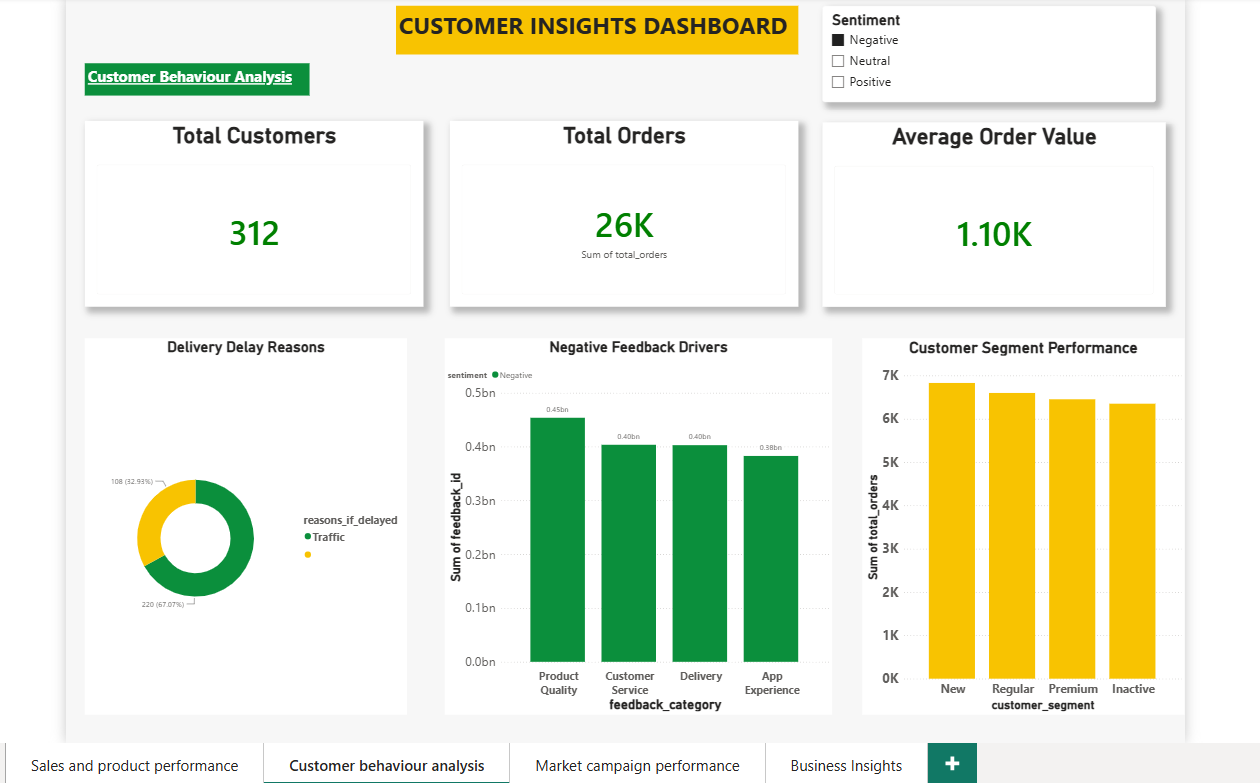

Layout of this report page (visuals, bound fields, positions):
{"tool":"powerbi","page":{"name":"Customer behaviour analysis","canvas":[1800,1200],"ordinal":1},"visuals":[{"type":"textbox","box":[530.8,14.1,647.5,78.4],"z":0},{"type":"textbox","box":[30.2,106.6,361.9,52.3],"z":1000},{"type":"cardVisual","title":"Total Customers","fields":{"Data":["Count(blinkit_sales_analysis customer_feedback.customer_id)"]},"box":[30.2,199.1,544.9,299.6],"z":2000},{"type":"donutChart","title":"Delivery Delay Reasons","fields":{"Category":["blinkit_sales_analysis delivery_performance.reasons_if_delayed"],"Y":["Count(blinkit_sales_analysis delivery_performance.order_id)"]},"box":[30.2,548.9,518.8,605.2],"z":3000},{"type":"columnChart","title":"Negative Feedback Drivers","fields":{"Series":["blinkit_sales_analysis customer_feedback.sentiment"],"Category":["blinkit_sales_analysis customer_feedback.feedback_category"],"Y":["Sum(blinkit_sales_analysis customer_feedback.feedback_id)"]},"box":[609.3,548.9,623.3,605.2],"z":4000},{"type":"slicer","fields":{"Values":["blinkit_sales_analysis customer_feedback.sentiment"]},"box":[1216.5,14.1,536.9,154.8],"z":5000},{"type":"clusteredColumnChart","title":"Customer Segment Performance","fields":{"Category":["blinkit_sales_analysis cleaned_customers.customer_segment"],"Y":["Sum(blinkit_sales_analysis cleaned_customers.total_orders)"]},"box":[1280.8,548.9,518.8,605.2],"z":6000},{"type":"cardVisual","title":"Total Orders","fields":{"Data":["Sum(blinkit_sales_analysis cleaned_customers.total_orders)"]},"box":[617.3,199.1,561,299.6],"z":7000},{"type":"cardVisual","title":"Average Order Value","fields":{"Data":["Avg(blinkit_sales_analysis cleaned_customers.avg_order_value)"]},"box":[1216.5,201.1,553,297.6],"z":8000}]}

Visuals, with their boxes on the page's 1800x1200 design canvas (x1, y1, x2, y2). These are canvas units, not pixel positions in the 1260x783 screenshot, which may show the page scaled, cropped or inside an application window:
textbox: crop(531, 14, 1178, 92)
textbox: crop(30, 107, 392, 159)
"Total Customers" cardVisual: crop(30, 199, 575, 499)
"Delivery Delay Reasons" donutChart: crop(30, 549, 549, 1154)
"Negative Feedback Drivers" columnChart: crop(609, 549, 1233, 1154)
slicer - blinkit_sales_analysis customer_feedback.sentiment: crop(1216, 14, 1753, 169)
"Customer Segment Performance" clusteredColumnChart: crop(1281, 549, 1800, 1154)
"Total Orders" cardVisual: crop(617, 199, 1178, 499)
"Average Order Value" cardVisual: crop(1216, 201, 1770, 499)
